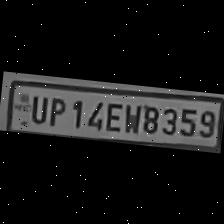1: (66, 95, 86, 129)
3: (158, 102, 179, 136)
4: (82, 96, 106, 130)
5: (175, 104, 198, 136)
8: (138, 101, 160, 135)
9: (194, 104, 216, 138)
E: (101, 97, 124, 132)
P: (44, 93, 68, 127)
U: (25, 90, 49, 124)
W: (122, 99, 141, 134)
